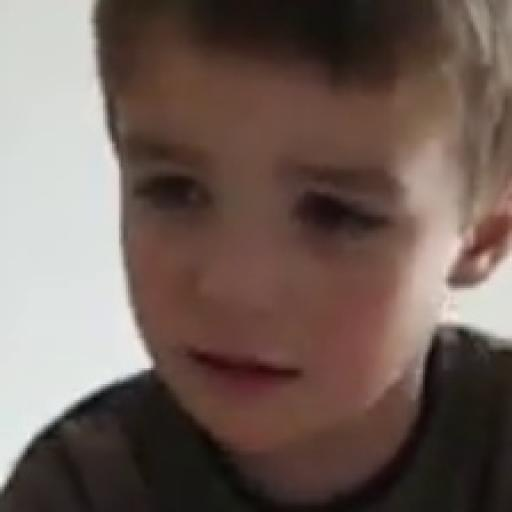Autism: (118, 30, 460, 486)
